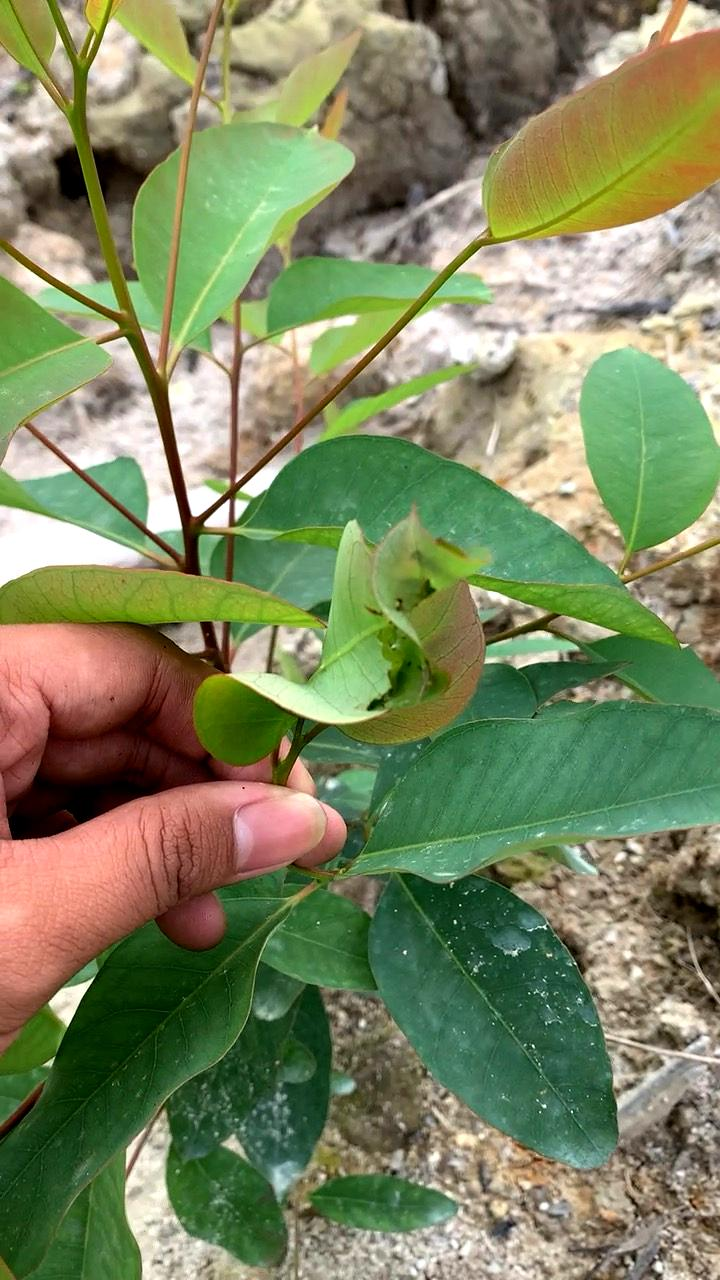Leaf Roller - Leaf: (155, 473, 518, 882)
